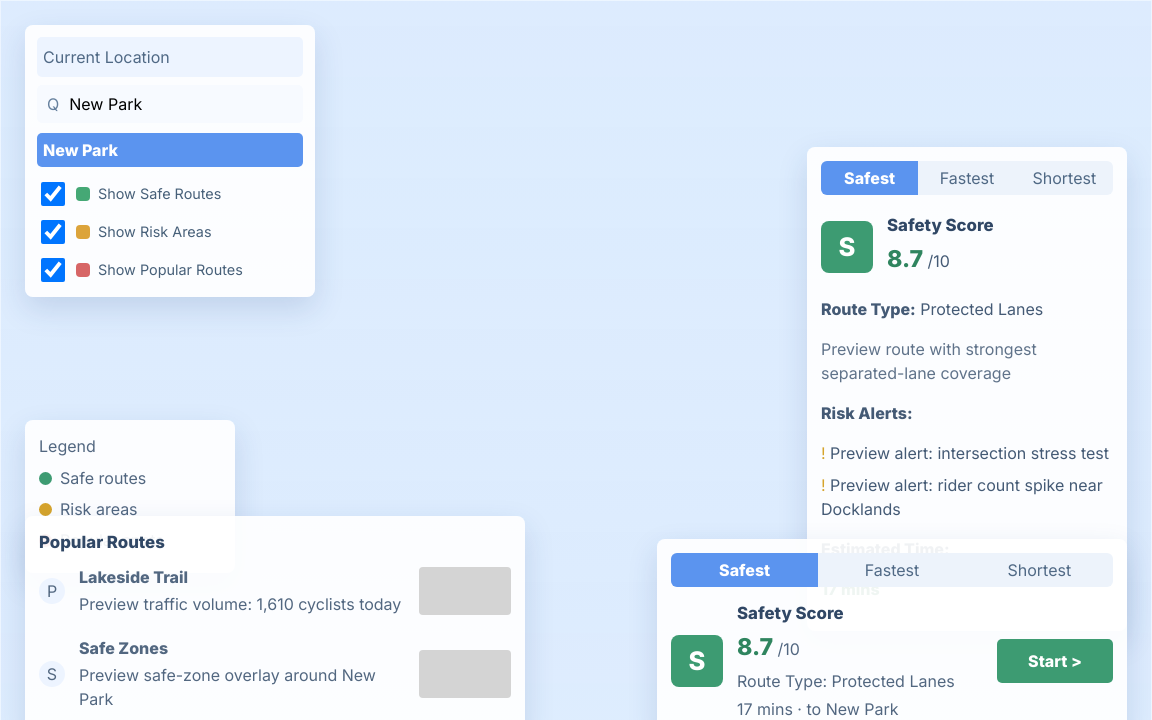
Test: DevPlannerMapPanel › filters destinations and chooses a destination
The width and height of the screenshot is (1152, 720).
Step 1. Replace the text in the field with placeholder "Search location..." with "Dock" → coordinates (180, 104), box left=67, top=91, right=293, bottom=117
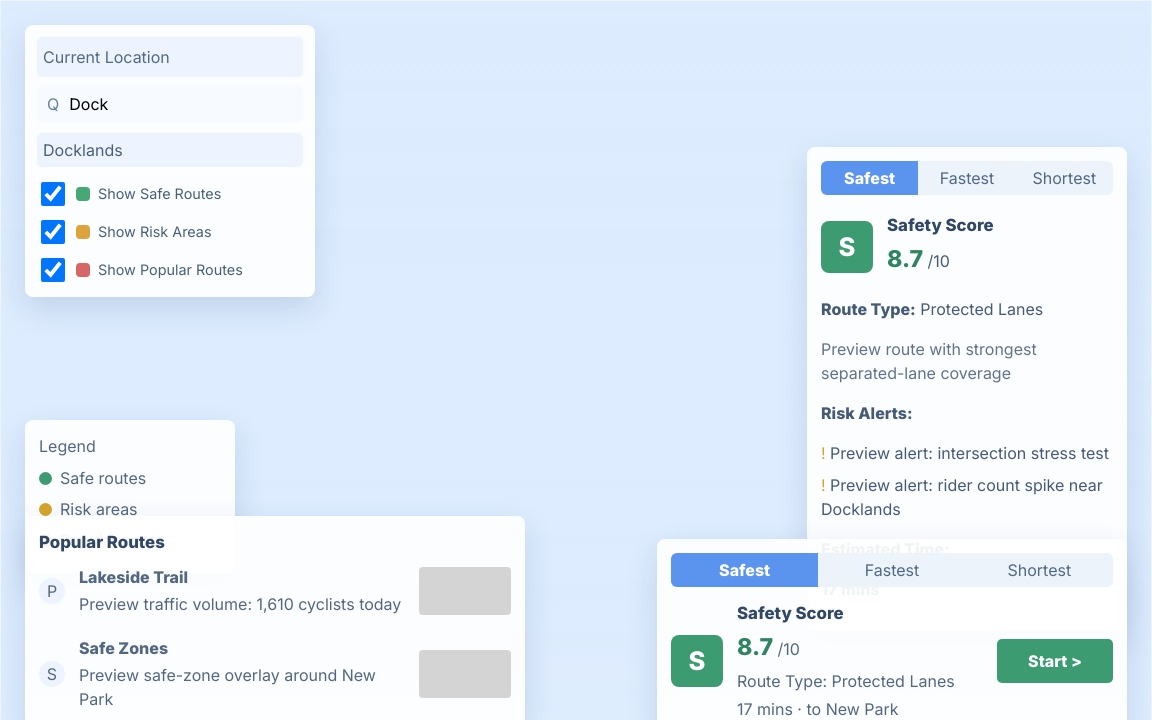
Step 2. Click the button with class "destination-option" → coordinates (83, 150), box left=37, top=133, right=303, bottom=167
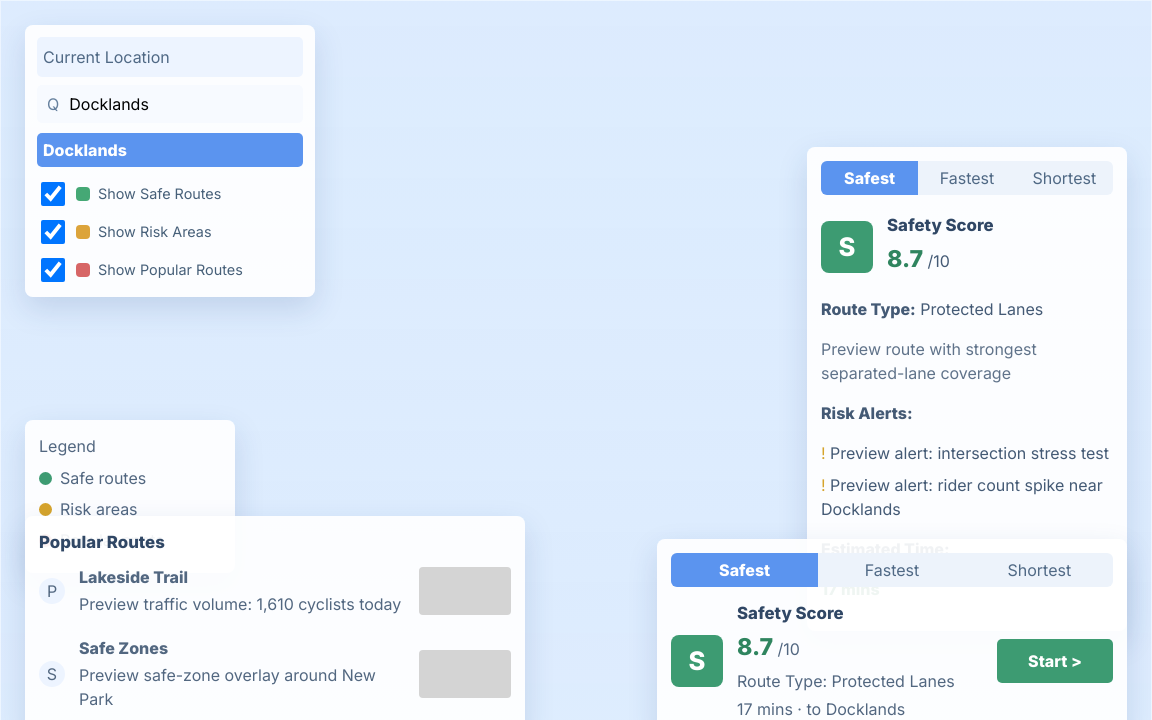
Expected: the text "to Docklands" is shown, left=737, top=699, right=905, bottom=719
